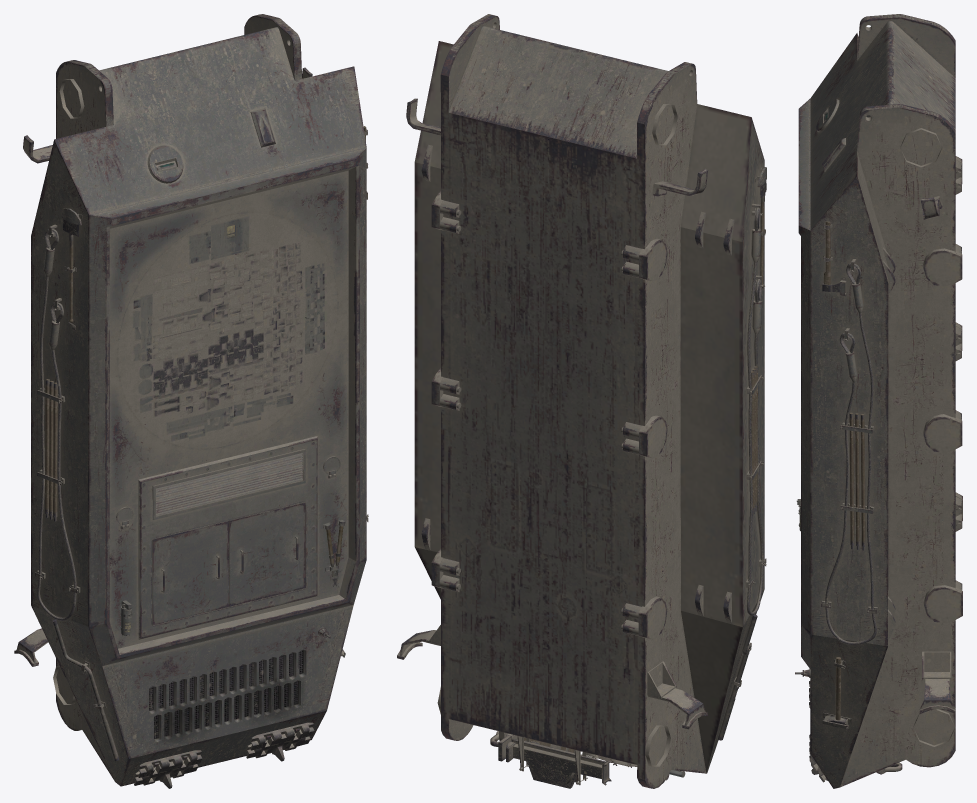
The model's file is Hull.glb.
The picture shows the model from 3 angles, left to right: view 1: azimuth 30°, elevation 25°; view 2: azimuth 150°, elevation 25°; view 3: azimuth 270°, elevation 25°; orthographic projection. The views are drawn at different scales.
Parts seen in each view (by area): view 1: set_0_group_0; view 2: set_0_group_0; view 3: set_0_group_0.
Boxes of the visible parts, x1,y1,x2,y2 form: set_0_group_0: [14, 14, 368, 788]; set_0_group_0: [397, 14, 766, 788]; set_0_group_0: [795, 14, 962, 788].
Bounding box in the file's own units: 3.3 × 6.93 × 1.53.
Materials: 1 (1 with a texture image).
